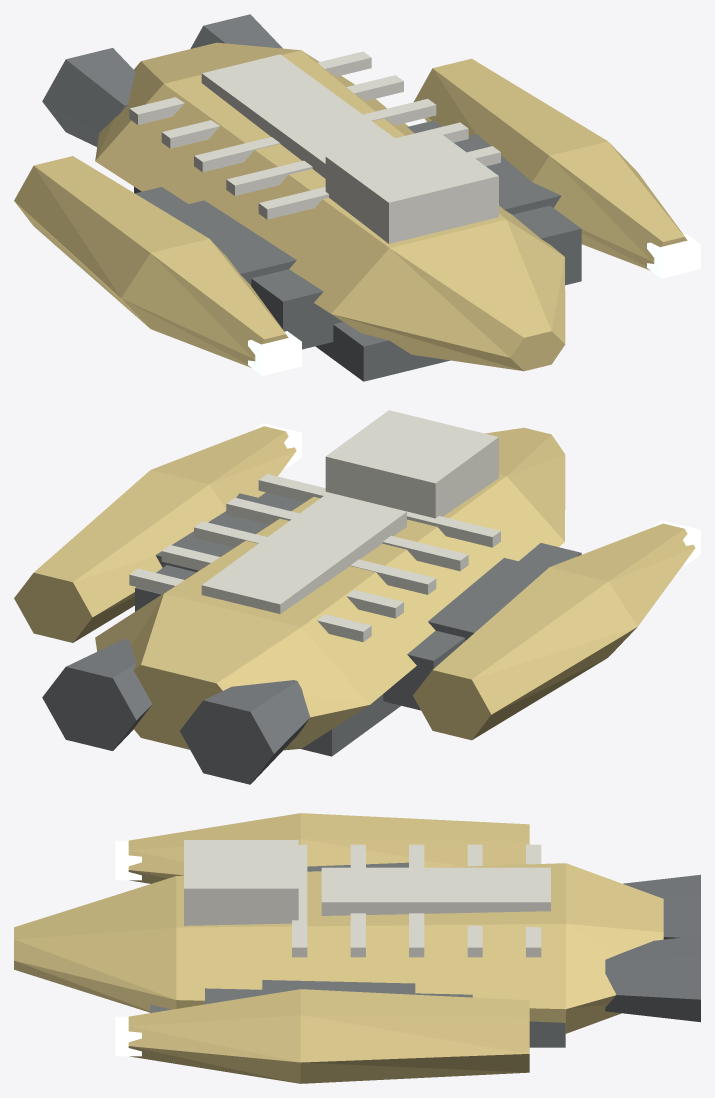
The picture shows the model from 3 angles, top to bottom: view 1: azimuth 30°, elevation 25°; view 2: azimuth 150°, elevation 25°; view 3: azimuth 270°, elevation 25°; orthographic projection. The views are drawn at different scales.
Bounding box in the file's own units: 6.1 × 1.74 × 7.77.
